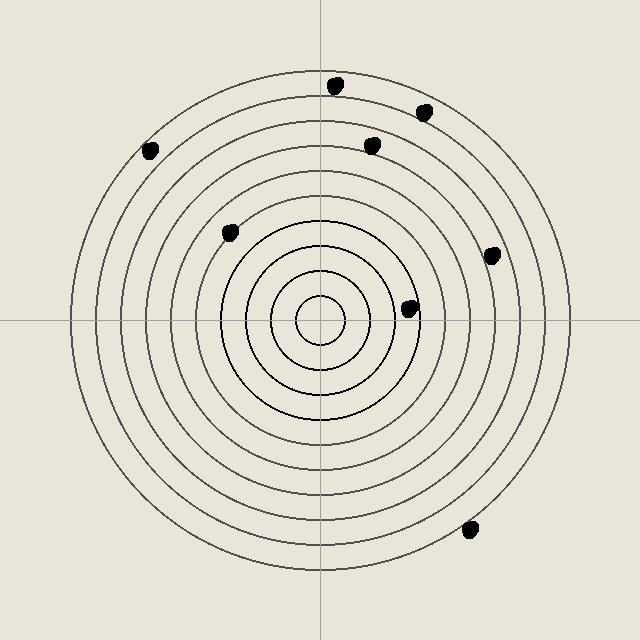random_scatter: (139, 140, 159, 160), (324, 75, 344, 95), (413, 102, 433, 122), (361, 135, 381, 155), (219, 222, 239, 242), (398, 298, 418, 318), (481, 245, 501, 265), (459, 519, 479, 539)
